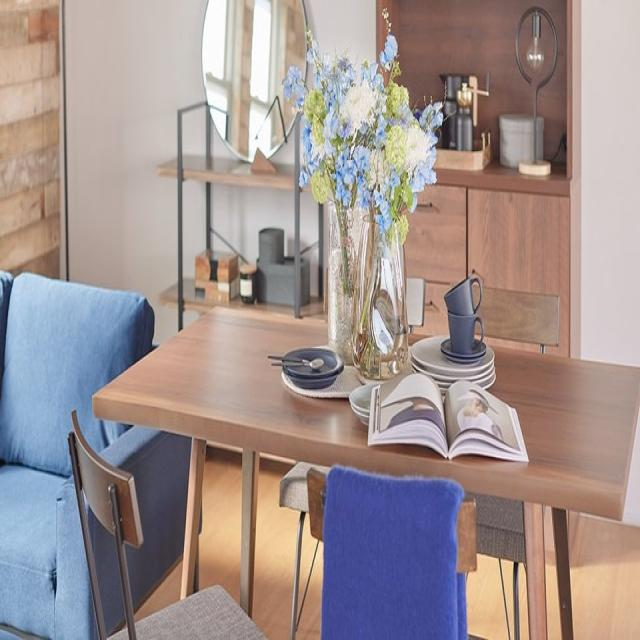vintage desk: (107, 292, 640, 516)
